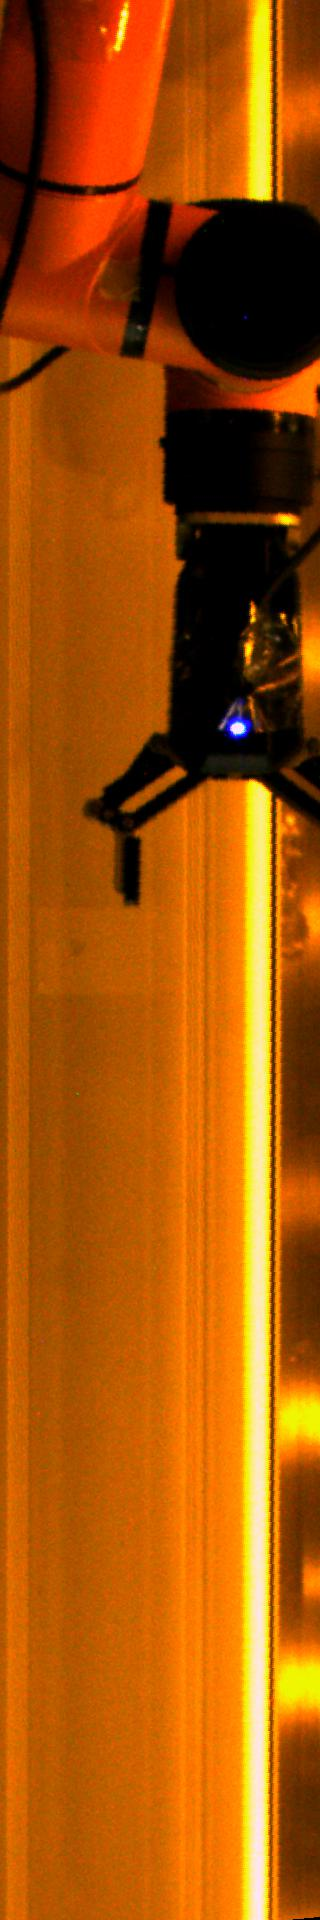keyPoint_1: (223, 713, 253, 743)
